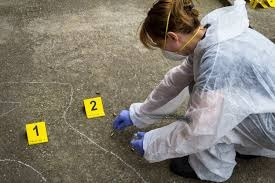escopeta.png: (148, 112, 208, 127)
